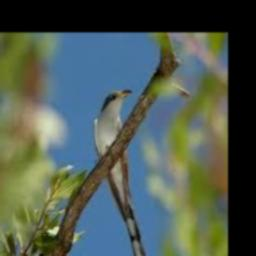Cuckoo: (94, 90, 146, 256)
